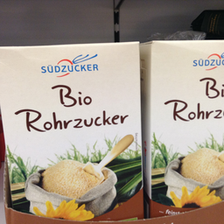sugar: (1, 42, 141, 223), (141, 40, 224, 214)
